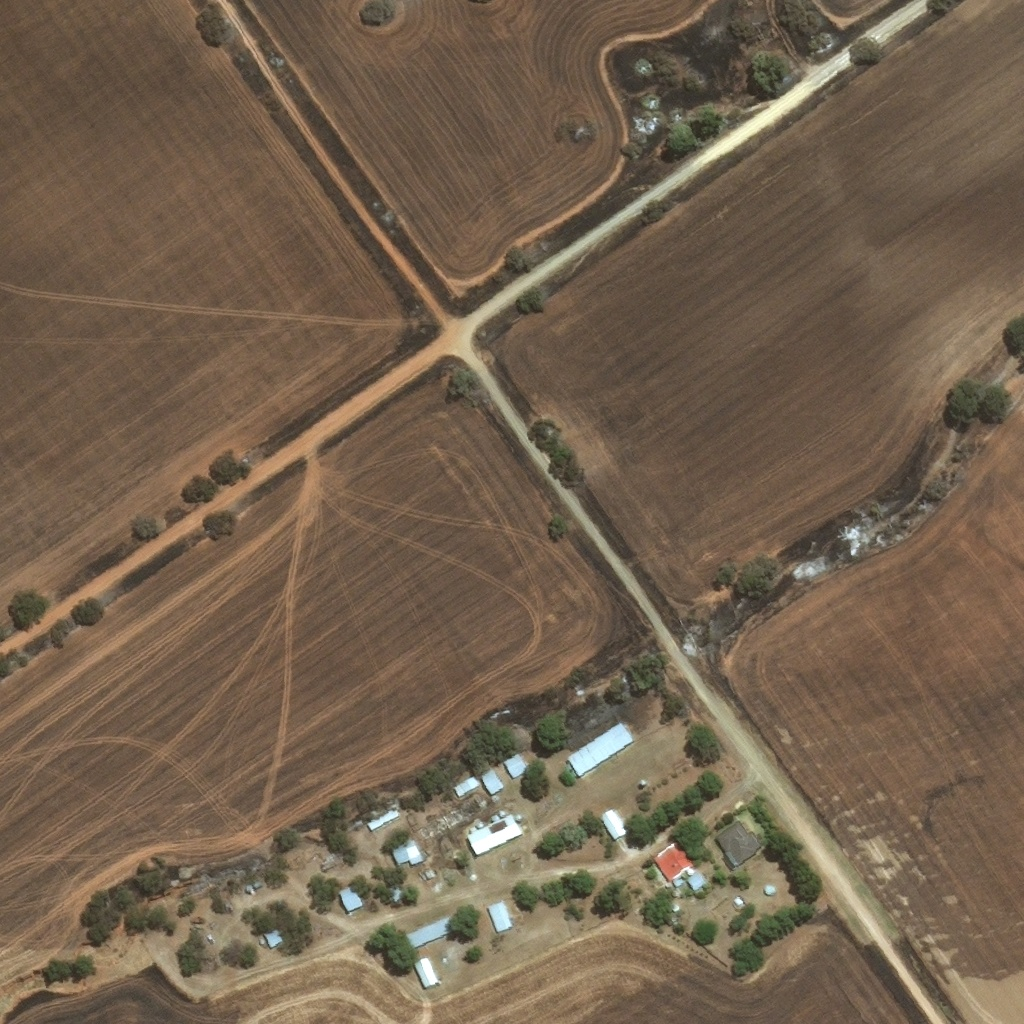0 no-damage: (565, 721, 634, 778), (712, 822, 765, 875), (467, 813, 522, 854), (651, 838, 697, 884), (404, 914, 460, 950), (389, 837, 423, 865), (598, 809, 627, 841), (364, 805, 399, 831), (413, 957, 440, 988), (486, 901, 511, 933), (338, 884, 363, 912), (501, 754, 528, 779), (479, 768, 504, 794), (451, 775, 479, 798), (262, 925, 284, 948), (685, 872, 706, 891), (387, 886, 405, 904), (491, 810, 504, 821), (469, 822, 483, 832), (422, 869, 434, 880), (762, 886, 772, 897), (672, 878, 683, 888), (732, 898, 741, 907), (515, 814, 522, 819)
4 un-classified: (838, 575, 844, 582)
